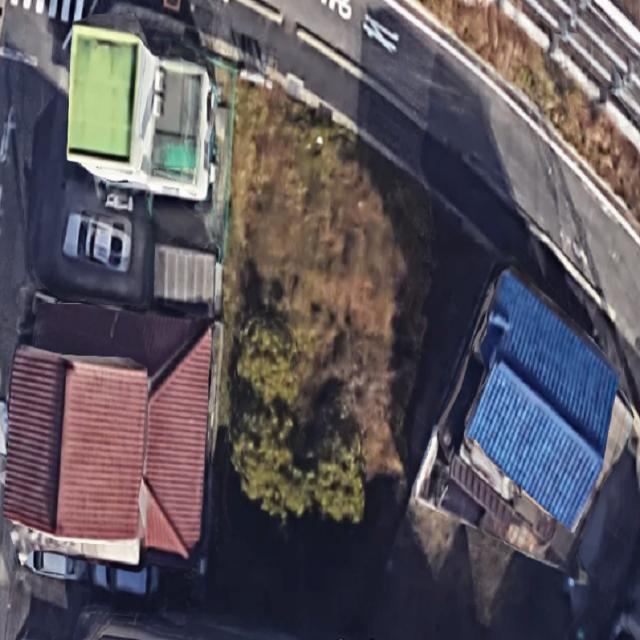Batiment: (4, 304, 211, 557), (465, 271, 619, 529), (66, 14, 212, 199)
